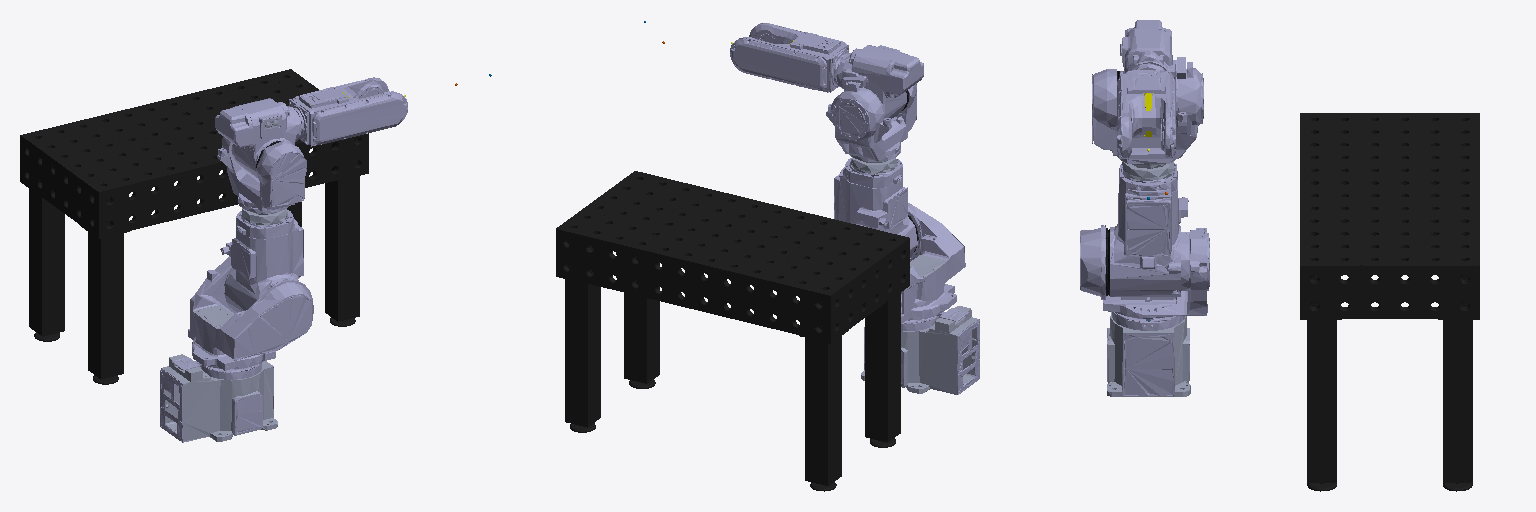
URDF robot description (ppm_lab):
<?xml version='1.0'?>
<robot name="ppm_lab">

  <material name="desk_dark">
    <color rgba="0.15 0.15 0.15 1"/>
  </material>

  <material name="plate_light_gray">
    <color rgba="0.80 0.80 0.80 1"/>
  </material>

  <material name="torch_gray">
    <color rgba="0.5 0.5 0.5 1"/>
  </material>

  <link name="world"/>

  <link name="base"/>
  
  <link name="base_link">
    <inertial>
      <mass value="52.05560"/>
      <origin xyz="-0.04209 -0.00037 0.1781" rpy="0 0 0"/>
      <inertia ixx="863290107.45e-09" ixy=  "-1056037.91e-09" ixz=  "6381175.98e-09"
                                      iyy="1200814101.56e-09" iyz=  "2291744.87e-09"
                                                              izz="903125124.47e-09"/>
    </inertial>

    <visual name="visual">
      <geometry>
        <mesh filename="package://ppm_lab/meshes/base_link.dae"/>
      </geometry>
    </visual>

    <collision>
      <origin xyz="-0.06 0 0.12" rpy="0 0 0"/>
      <geometry>
        <box size="0.41 0.17 0.24"/>
      </geometry>
    </collision>
    <collision>
      <origin xyz="-0.195 0 0.145" rpy="0 0 0"/>
      <geometry>
        <box size="0.14 0.17 0.29"/>
      </geometry>
    </collision>
        <collision>
      <origin xyz="0 0 0.165" rpy="0 0 0"/>
      <geometry>
        <cylinder radius="0.13" length="0.33"/>
      </geometry>
    </collision>
  </link>

  <link name="link_1">
    <inertial>
      <mass value="51.22680"/>
      <origin xyz="0.02787 0.00273 0.11871" rpy="0 0 0"/>
      <inertia ixx="1278476799.39e-09" ixy="116091072.31e-09" ixz= "139332150.45e-09"
                                       iyy="862693309.53e-09" iyz= "-28163220.90e-09"
                                                              izz="1466371909.51e-09"/>
    </inertial>

    <visual name="visual">
      <geometry>
        <mesh filename="package://ppm_lab/meshes/link_1.dae"/>
      </geometry>
    </visual>

    <collision>
      <origin xyz="-0.06076 0.02225 0.0825" rpy="0 0 0"/>
      <geometry>
        <box size="0.12 0.34 0.165"/>
      </geometry>
    </collision>
    <collision>
      <origin xyz="0.01381 0.02225 0.005" rpy="0 0 0"/>
      <geometry>
        <box size="0.27 0.34 0.01"/>
      </geometry>
    </collision>
    <collision>
      <origin xyz="0.06981 0.02225 0.08566" rpy="0 1.5708 0"/>
      <geometry>
        <box size="0.215 0.34 0.01"/>
      </geometry>
    </collision>
    <collision>
      <origin xyz="0.15 -0.144 0.207" rpy="1.5708 0 0"/>
      <geometry>
        <cylinder radius="0.125" length="0.032"/>
      </geometry>
    </collision>
    <collision>
      <origin xyz="0.15 0.17064 0.207" rpy="1.5708 0 0"/>
      <geometry>
        <cylinder radius="0.105" length="0.065"/>
      </geometry>
    </collision>
  </link>

  <link name="link_2">
    <inertial>
      <mass value="59.69203"/>
      <origin xyz="0.00414 0.03788 0.12660" rpy="0 0 0"/>
      <inertia ixx="1857042873.20e-09" ixy= "-17295347.06e-09" ixz=   "6431293.48e-09"
                                       iyy="1723219736.02e-09" iyz="-260297320.23e-09"
                                                               izz= "666222254.18e-09"/>
    </inertial>

    <visual name="visual">
      <geometry>
        <mesh filename="package://ppm_lab/meshes/link_2.dae"/>
      </geometry>
    </visual>

    <collision>
      <origin xyz="0 0.026 0" rpy="1.5708 0 0"/>
      <geometry>
        <cylinder radius="0.115" length="0.31"/>
      </geometry>
    </collision>
    <collision>
      <origin xyz="0 0 0.185" rpy="0 0 0"/>
      <geometry>
        <cylinder radius="0.11" length="0.37"/>
      </geometry>
    </collision>
    <collision>
      <origin xyz="0 0 0.3875" rpy="0 0 0"/>
      <geometry>
        <cylinder radius="0.07" length="0.035"/>
      </geometry>
    </collision>
  </link>

  <link name="link_7">
    <inertial>
      <mass value="29.18848"/>
      <origin xyz="-0.00340 0.02519 0.11555" rpy="0 0 0"/>
      <inertia ixx="606743200.72e-09" ixy=  "3136702.76e-09" ixz=  "8336678.46e-09"
                                      iyy="309512691.28e-09" iyz= "42756193.68e-09"
                                                             izz="491006982.70e-09"/>
    </inertial>

    <visual name="visual">
      <geometry>
        <mesh filename="package://ppm_lab/meshes/link_7.dae"/>
      </geometry>
    </visual>

    <collision>
      <origin xyz="0 -0.01168 0.05" rpy="0 0 0"/>
      <geometry>
        <box size="0.14 0.35 0.1"/>
      </geometry>
    </collision>
    <collision>
      <origin xyz="0 -0.14616 0.21076" rpy="1.5708 0 0"/>
      <geometry>
        <cylinder radius="0.09" length="0.08"/>
      </geometry>
    </collision>
    <collision>
      <origin xyz="0 0.14051 0.21076" rpy="1.5708 0 0"/>
      <geometry>
        <cylinder radius="0.085" length="0.085"/>
      </geometry>
    </collision>
  </link>

  <link name="link_3">
    <inertial>
      <mass value="35.37538"/>
      <origin xyz="0.005 0.03723 0.05773" rpy="0 0 0"/>
      <inertia ixx="404065298.19e-09" ixy= "-1720327.66e-09" ixz="-11052311.77e-09"
                                      iyy="428545103.80e-09" iyz="-65091447.11e-09"
                                                             izz="379757505.09e-09"/>
    </inertial>

    <visual name="visual">
      <geometry>
        <mesh filename="package://ppm_lab/meshes/link_3.dae"/>
      </geometry>
    </visual>

    <collision>
      <origin xyz="0 0.02756 0" rpy="1.5708 0 0"/>
      <geometry>
        <cylinder radius="0.09" length="0.27"/>
      </geometry>
    </collision>
    <collision>
      <origin xyz="-0.0405 0.00136 0.12788" rpy="0 1.5708 0"/>
      <geometry>
        <cylinder radius="0.09" length="0.27"/>
      </geometry>
    </collision>
    <collision>
      <origin xyz="0.11711 0.00136 0.10011" rpy="0 1.5708 0"/>
      <geometry>
        <cylinder radius="0.075" length="0.03"/>
      </geometry>
    </collision>
  </link>

  <link name="link_4">
    <inertial>
      <mass value="24.82469"/>
      <origin xyz="0.19634 -0.00684 0.00065" rpy="0 0 0"/>
      <inertia ixx="171441694.31e-09" ixy= "-4753681.47e-09" ixz=  "-534293.42e-09"
                                      iyy="481187769.92e-09" iyz=   "163683.52e-09"
                                                             izz="525201163.94e-09"/>
    </inertial>

    <visual name="visual">
      <geometry>
        <mesh filename="package://ppm_lab/meshes/link_4.dae"/>
      </geometry>
    </visual>

    <collision>
      <origin xyz="0.19 -0.0065 0" rpy="0 0 0"/>
      <geometry>
        <box size="0.38 0.195 0.15"/>
      </geometry>
    </collision>
    <collision>
      <origin xyz="0.38 -0.08 0" rpy="1.5708 0 0"/>
      <geometry>
        <cylinder radius="0.075" length="0.05"/>
      </geometry>
    </collision>
    <collision>
      <origin xyz="0.38 0.065 0" rpy="1.5708 0 0"/>
      <geometry>
        <cylinder radius="0.075" length="0.05"/>
      </geometry>
    </collision>
  </link>

  <link name="link_5">
    <inertial>
      <mass value="6.76157"/>
      <origin xyz="0.00448 -0.01262 0.00024" rpy="0 0 0"/>
      <inertia ixx="12400683.64e-09" ixy=  "530569.76e-09" ixz=   "87309.48e-09"
                                     iyy="14655465.06e-09" iyz=   "43172.82e-09"
                                                           izz="13338035.40e-09"/>
    </inertial>

    <visual name="visual">
      <geometry>
        <mesh filename="package://ppm_lab/meshes/link_5.dae"/>
      </geometry>
    </visual>

    <collision>
      <origin xyz="0 -0.015 0" rpy="1.5708 0 0"/>
      <geometry>
        <cylinder radius="0.0625" length="0.11"/>
      </geometry>
    </collision>
    <collision>
      <origin xyz="0.03935 0 0" rpy="0 1.5708 0"/>
      <geometry>
        <cylinder radius="0.05" length="0.07"/>
      </geometry>
    </collision>
  </link>

  <link name="link_6">
    <inertial>
      <mass value="2.40790"/>
      <origin xyz="0.02667 0 -0.00006" rpy="0 0 0"/>
      <inertia ixx="2787800.29e-09" ixy=   "-316.90e-09" ixz=    "424.93e-09"
                                    iyy="2010187.65e-09" iyz=    "400.91e-09"
                                                         izz="2033705.83e-09"/>
    </inertial>

    <visual name="visual">
      <geometry>
        <mesh filename="package://ppm_lab/meshes/link_6.dae"/>
      </geometry>
    </visual>

    <collision>
      <origin xyz="0.0275 0 0" rpy="0 1.5708 0"/>
      <geometry>
        <cylinder radius="0.05" length="0.055"/>
      </geometry>
    </collision>
  </link>

  <link name="torch">
	<visual name="visual">
      <geometry>
        <mesh filename="package://ppm_lab/meshes/torch.stl"/>
      </geometry>
      <material name="torch_gray"/>
    </visual>
  </link>

  <link name="tcp">
	  <visual name="visual">
      <geometry>
        <sphere radius="0.005"/>
      </geometry>
    </visual>
  </link>

  <link name="tip">
	  <visual name="visual">
      <geometry>
        <sphere radius="0.005"/>
      </geometry>
    </visual>
  </link>

  <link name="scanner">
	<visual name="visual">
      <geometry>
        <sphere radius="0.005"/>
      </geometry>
    </visual>
  </link>

  <link name="table">
	<visual name="visual">
      <geometry>
        <mesh filename="package://ppm_lab/meshes/table.stl"/>
      </geometry>
      <material name="desk_dark"/>
    </visual>
  </link>

  <link name="plate">
	  <visual name="visual">
      <geometry>
        <mesh filename="package://ppm_lab/meshes/workpiece.stl"/>
      </geometry>
      <material name="plate_light_gray"/>
    </visual>
  </link>

  <link name="flange">
	  <visual name="visual">
      <geometry>
        <mesh filename="package://ppm_lab/meshes/flange.stl"
	      scale="0.001 0.001 0.001"/>
      </geometry>
      <material name="plate_light_gray"/>
    </visual>
  </link>

  <joint type="revolute" name="world_base_link">
    <origin xyz="0 0 0" rpy="0 0 0"/>
    <parent link="world"/>
    <child link="base_link"/>
    <limit lower="0" upper="0" effort="30" velocity="1"/>
  </joint>

  <joint type="fixed" name="world_table_link">
    <parent link="world"/>
    <child link="table"/>
    <origin xyz="-0.3 0.5 0.84"/>
  </joint>

  <joint type="fixed" name="table_plate_link">
    <parent link="table"/>
    <child link="plate"/>
    <origin xyz="0.96 0.05 0.025" rpy="0 0 1.570796"/>
  </joint>

  <joint type="revolute" name="base_link_base">
    <parent link="base_link"/>
    <child link="base"/>
    <axis xyz="0 0 1"/>
    <limit lower="0" upper="0" effort="30" velocity="1"/>
  </joint>

  <joint type="revolute" name="joint_1">
    <origin xyz="0 0 0.293" rpy="0 0 0"/>
    <parent link="base_link"/>
    <child link="link_1"/>
    <axis xyz="0 0 1"/>
    <limit lower="-3.14" upper="3.14" effort="30" velocity="1"/>
  </joint>

  <joint type="revolute" name="joint_2">
    <origin xyz="0.15 0 0.207" rpy="0 0 0"/>
    <parent link="link_1"/>
    <child link="link_2"/>
    <axis xyz="0 1 0"/>
    <limit lower="-0.96" upper="2.09" effort="30" velocity="1"/>
  </joint>

  <joint type="revolute" name="joint_3">
    <origin xyz="0 0 0.2045" rpy="0 0 0"/>
    <parent link="link_7"/>
    <child link="link_3"/>
    <axis xyz="0 1 0"/>
    <limit lower="-2.89" upper="2.35" effort="30" velocity="1"/>
  </joint>

  <joint type="revolute" name="joint_4">
    <origin xyz="0.1335 0 0.1" rpy="0 0 0"/>
    <parent link="link_3"/>
    <child link="link_4"/>
    <axis xyz="1 0 0"/>
    <limit lower="-3.14" upper="3.14" effort="30" velocity="1"/>
  </joint>

  <joint type="revolute" name="joint_5">
    <origin xyz="0.3665 0 0" rpy="0 0 0"/>
    <parent link="link_4"/>
    <child link="link_5"/>
    <axis xyz="0 1 0"/>
    <limit lower="-2.42" upper="2.42" effort="30" velocity="1"/>
  </joint>

  <joint type="revolute" name="joint_6">
    <origin xyz="0.0705 0 0" rpy="0 0 0"/>
    <parent link="link_5"/>
    <child link="link_6"/>
    <axis xyz="1 0 0"/>
    <limit lower="-6.28" upper="6.28" effort="30" velocity="1"/>
  </joint>

  <joint type="revolute" name="joint_7">
    <origin xyz="0 0 0.3955" rpy="0 0 0"/>
    <parent link="link_2"/>
    <child link="link_7"/>
    <axis xyz="0 0 1"/>
    <limit lower="-3.14" upper="3.14" effort="30" velocity="1"/>
  </joint>

  <joint type="fixed" name="link6_flange">
    <origin xyz="0.0545 0 0" rpy="1.570796 0 1.570796"/>
    <parent link="link_6"/>
    <child link="flange"/>
    <axis xyz="0 0 1"/>
  </joint>

  <joint type="fixed" name="flange_torch">
    <origin xyz="0.101 0.131 -0.006" rpy="0 0 1.570796"/>
    <parent link="flange"/>
    <child link="torch"/>
    <axis xyz="0 0 1"/>
  </joint>

  <!-- <joint type="revolute" name="torch_tip">
    <origin xyz="0.4295 0 0" rpy="-1.570796 -0.785398 0"/>
    <parent link="link_6"/>
    <child link="tip"/>
    <axis xyz="1 0 0"/>
    <limit lower="0" upper="0" effort="0" velocity="0"/>
  </joint> -->

  <joint type="revolute" name="torch_tip">
    <origin xyz="0.4295 0 0" rpy="0 -0.785398 0"/>
    <parent link="link_6"/>
    <child link="tip"/>
    <axis xyz="0 0 1"/>
    <limit lower="0" upper="0" effort="0" velocity="0"/>
  </joint>

  <joint type="revolute" name="scanner_tip">
    <origin xyz="0.313575 0.059613 -0.03619" rpy="0.785398 0 -1.570796"/>
    <parent link="link_6"/>
    <child link="scanner"/>
    <axis xyz="1 0 0"/>
    <limit lower="0" upper="0" effort="0" velocity="0"/>
  </joint>

  <joint type="revolute" name="link_6_tcp">
    <origin xyz="0.0495 0 0" rpy="0 0 0"/>
    <parent link="link_6"/>
    <child link="tcp"/>
    <axis xyz="0 0 1"/>
    <limit lower="0" upper="0" effort="0" velocity="0"/>
  </joint>


</robot>

--- What the picture shows (computed from the rendered views, not written in the file) ---
Views: 3 orthographic renders of the robot side by side, from view 1: azimuth 30°, elevation 25°; view 2: azimuth 150°, elevation 25°; view 3: azimuth 270°, elevation 25°.
Model ppm_lab with 17 links and 16 joints (12 revolute, 4 fixed), rooted at world, posed every joint at zero.
Links seen in each view (by area): view 1: table, link_1, base_link, link_2, link_4, link_7, link_3; view 2: table, base_link, link_4, link_2, link_1, link_7, link_3; view 3: table, link_2, base_link, link_1, link_7, link_4, link_3.
Boxes of the visible links, <box> form: table: <box>20,69,368,384</box>; link_1: <box>188,256,313,370</box>; base_link: <box>160,354,277,442</box>; link_2: <box>220,208,303,312</box>; link_4: <box>289,77,407,146</box>; link_7: <box>217,136,306,213</box>; link_3: <box>215,98,301,178</box>; table: <box>556,171,909,491</box>; base_link: <box>861,306,979,394</box>; link_4: <box>730,23,848,92</box>; link_2: <box>834,157,917,256</box>; link_1: <box>901,203,965,323</box>; link_7: <box>826,81,916,161</box>; link_3: <box>836,45,923,118</box>; table: <box>1300,113,1479,491</box>; link_2: <box>1110,161,1190,296</box>; base_link: <box>1107,312,1190,396</box>; link_1: <box>1080,225,1209,321</box>; link_7: <box>1092,62,1203,163</box>; link_4: <box>1117,70,1175,157</box>; link_3: <box>1117,20,1185,120</box>.
Bounding box of the posed robot: 1.45 × 1.33 × 1.31 m (x, y, z).
Meshes: 12 distinct files referenced, 7 mesh visuals loaded (1 binary STL, 6 Collada DAE); not drawn: 5 (reference not matched to a file when rendering).